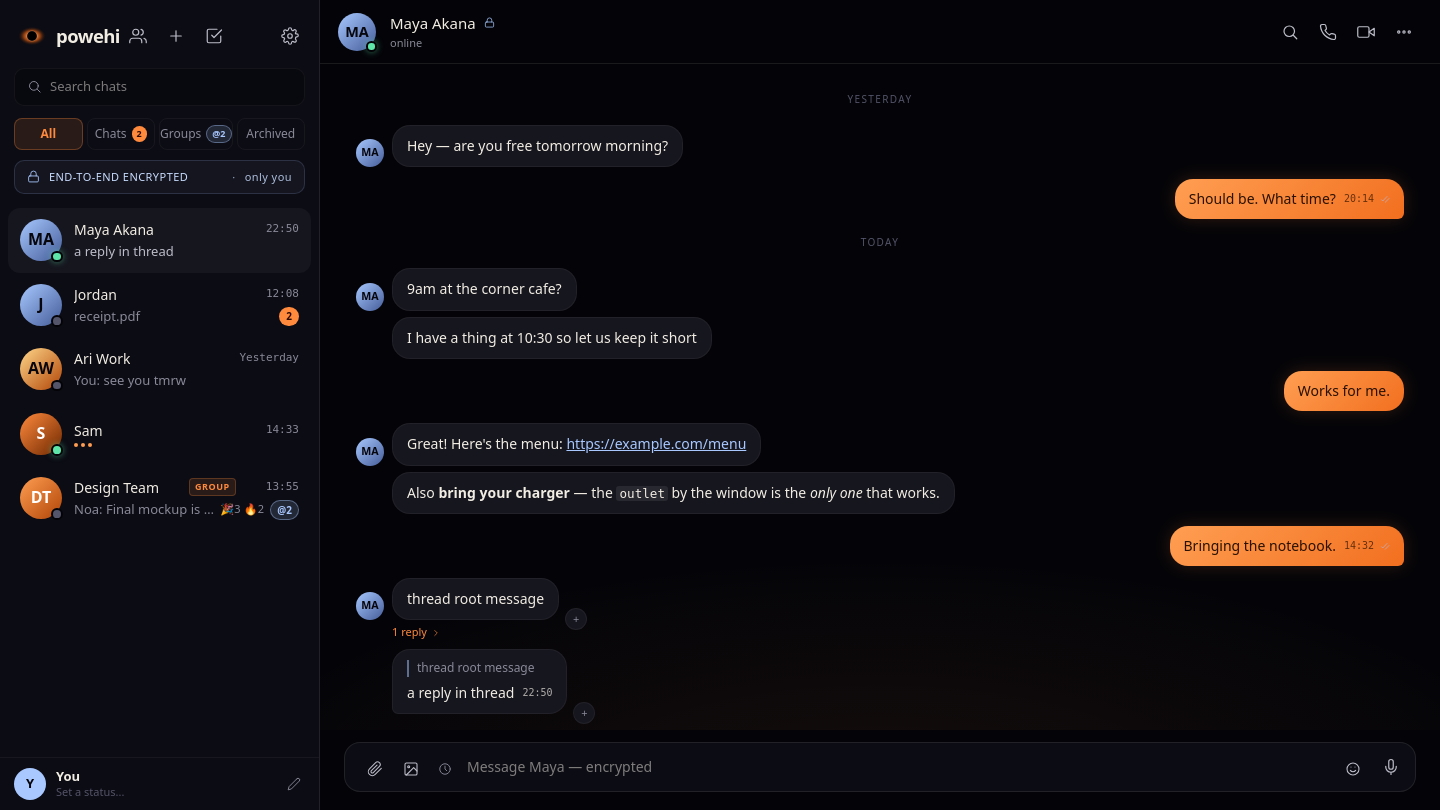
Test: ChatLayout — thread panel emoji reactions › root message with peer reaction shows reaction chip in thread panel
(page scrolled)
Click the button with test id "thread-replies-btn": {"x": 398, "y": 633} [356, 622, 441, 643]
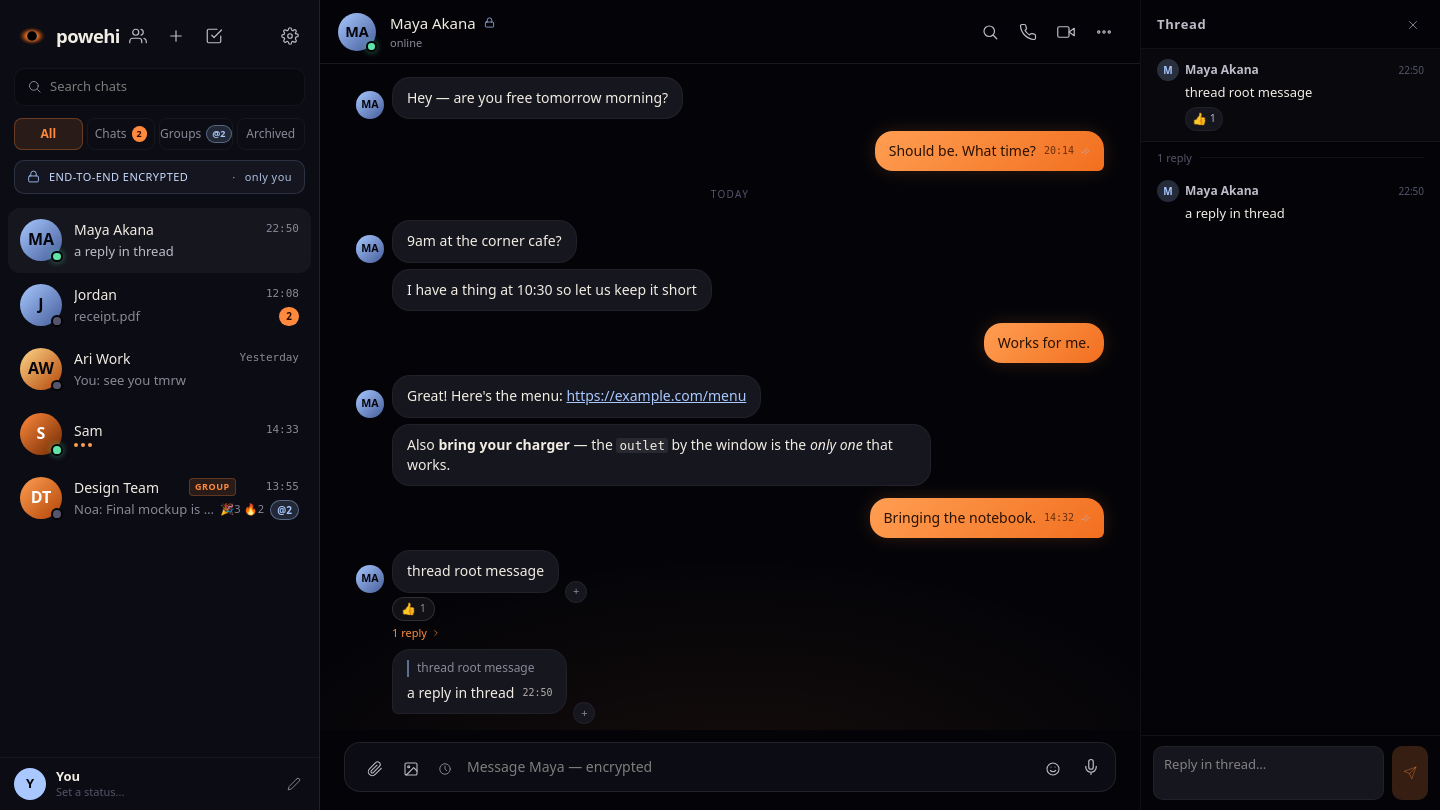
Check: the button with test id "thread-reaction-chip-👍" is shown, box [1185, 106, 1223, 130]
